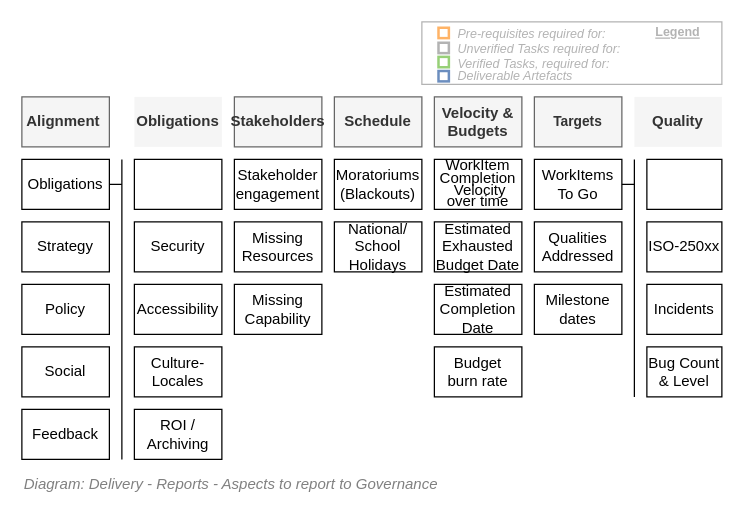
Image size: 744x519. Some labels were removed from this diagram. Each missing label, with the centre of its shape:
Features Count: point 684,183
Privacy: point 177,183
